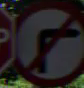Don't turn right: (8, 9, 74, 75)
